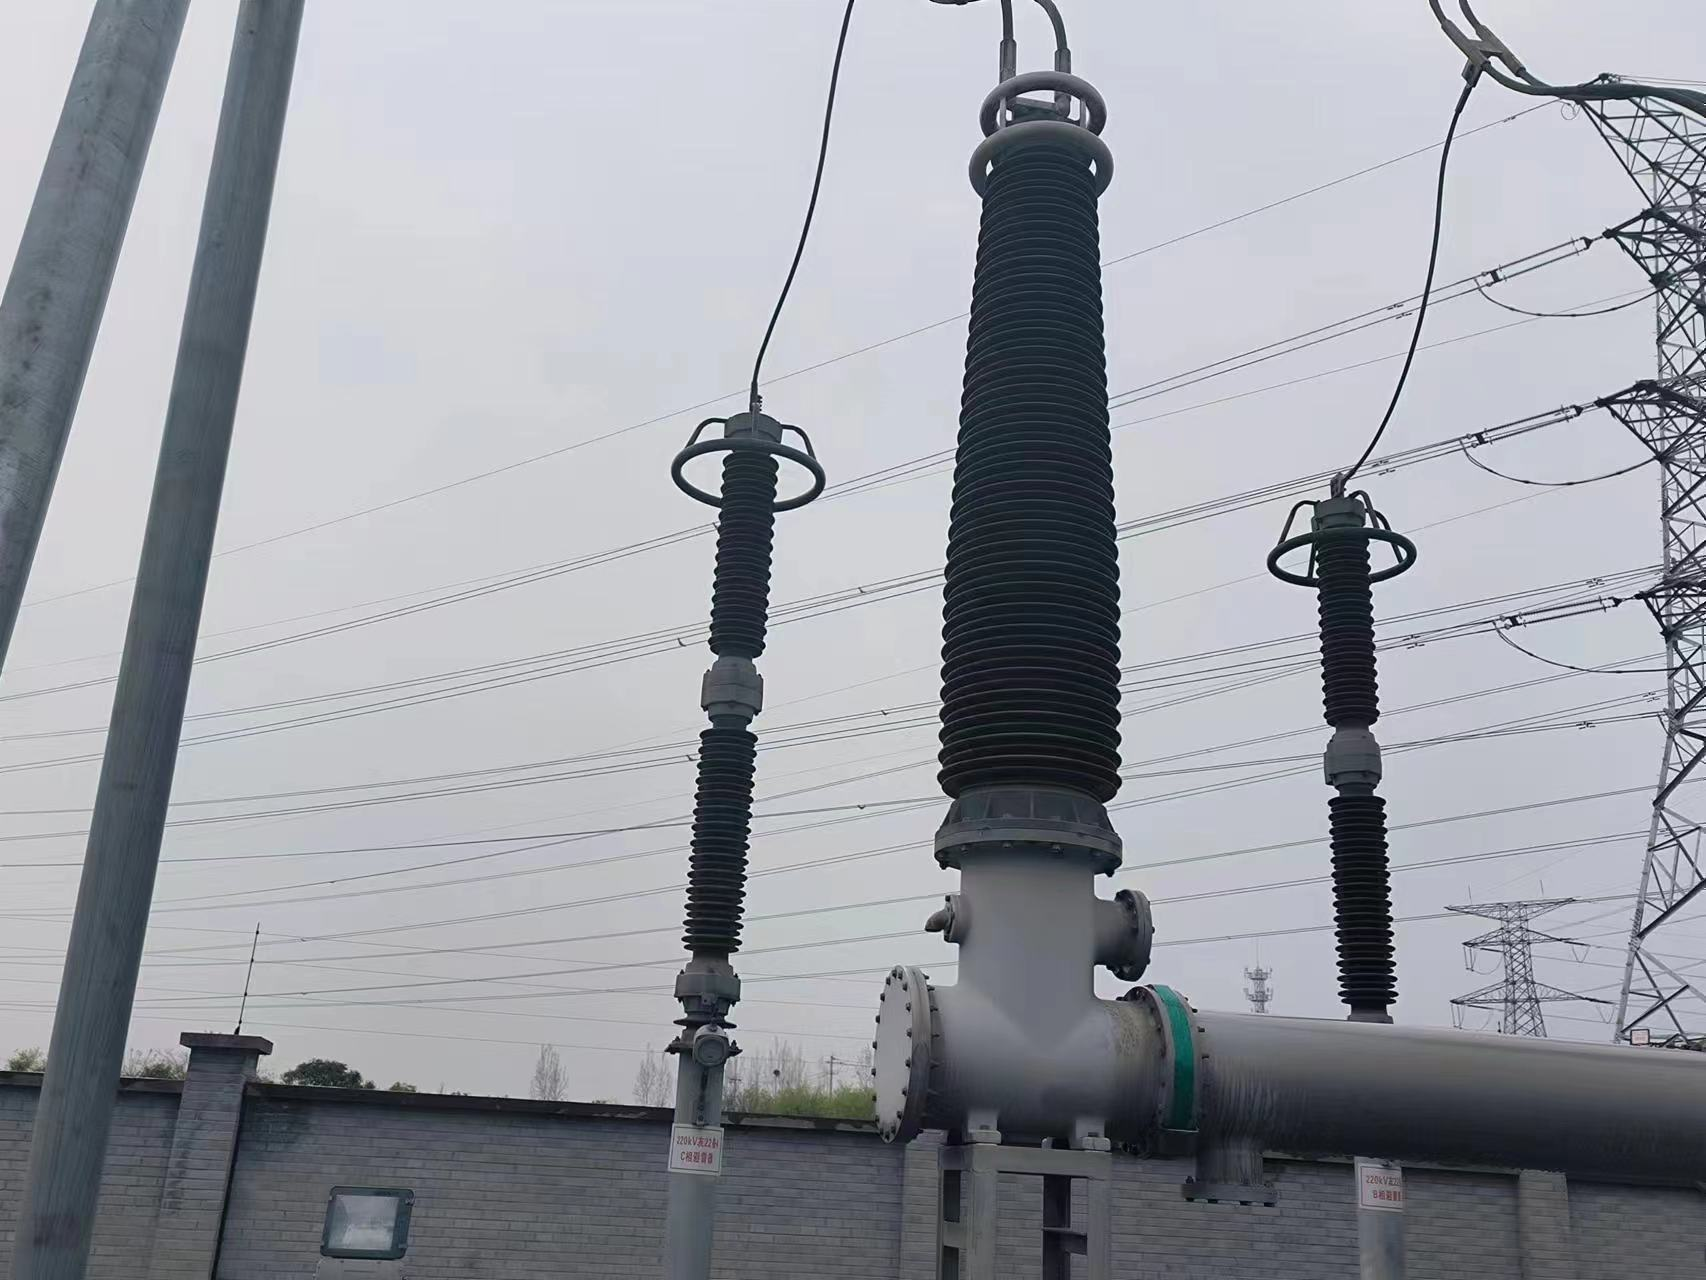Arrester: (659, 409, 835, 1021), (1268, 477, 1425, 1030)
Voltage transformer: (925, 67, 1135, 815)
